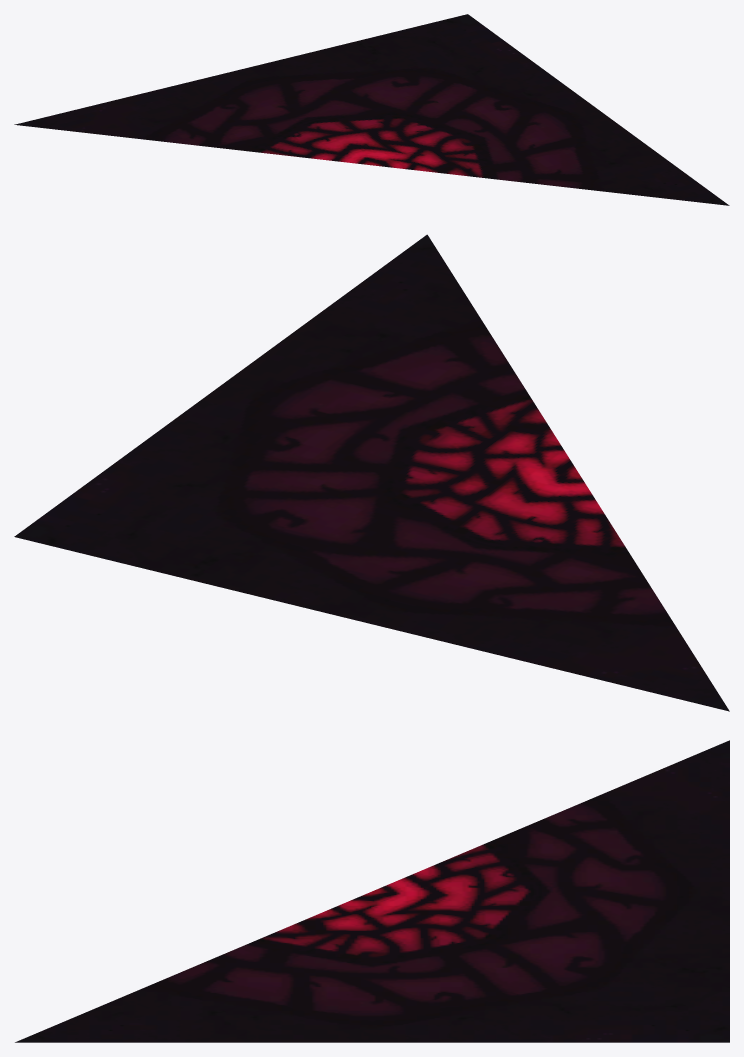
File: palace_specialfloor_diagonalblank_noshadow_01.fbx
3 renders of one model, top to bottom at view 1: azimuth 30°, elevation 25°; view 2: azimuth 150°, elevation 25°; view 3: azimuth 270°, elevation 25°, orthographic. The views are drawn at different scales.
Parts seen in each view (by area): view 1: palace_tileset/palace_floor03_mat; view 2: palace_tileset/palace_floor03_mat; view 3: palace_tileset/palace_floor03_mat.
Part boxes in pixels (x1,y1,x2,y2): palace_tileset/palace_floor03_mat: (14, 14, 729, 205); palace_tileset/palace_floor03_mat: (14, 234, 729, 711); palace_tileset/palace_floor03_mat: (15, 740, 729, 1042).
Bounding box in the file's own units: 4 × 0 × 4.
